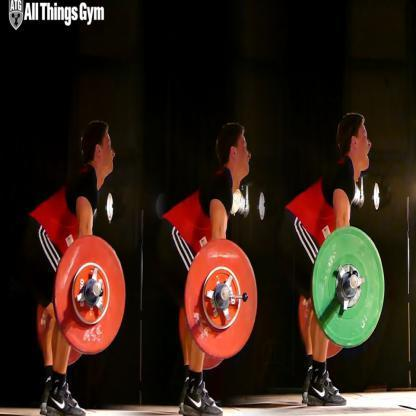barbell: (33, 235, 127, 369), (297, 226, 385, 363), (179, 240, 258, 372)
